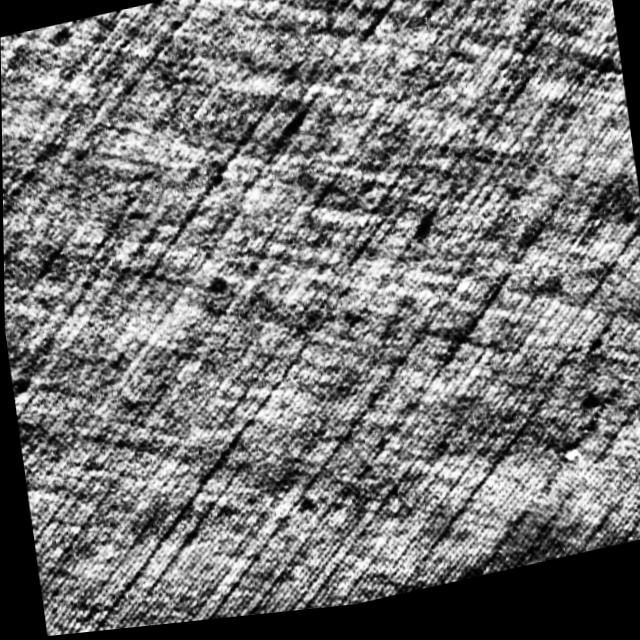Hole: (538, 444, 594, 489)
